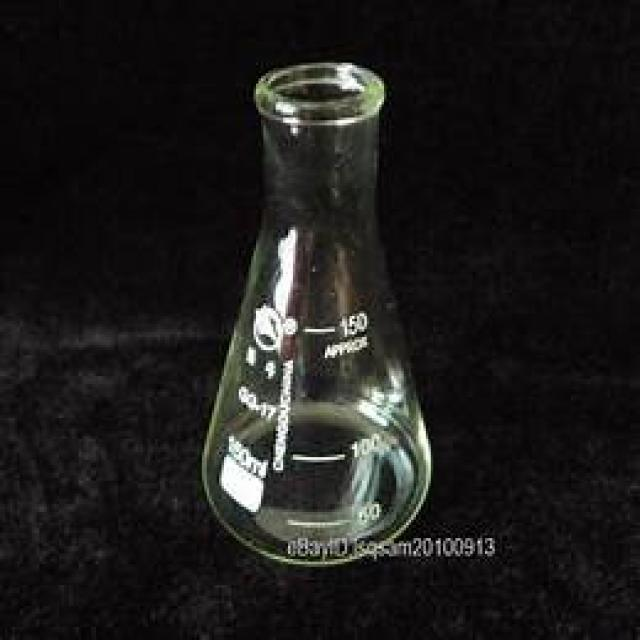Titrarion: (202, 63, 435, 562)
